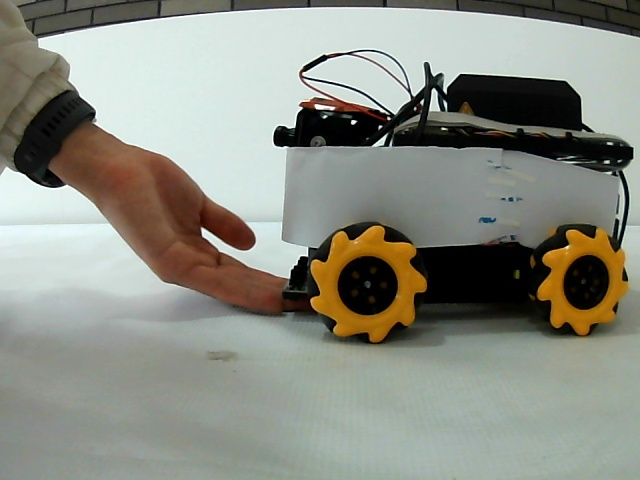car: (270, 66, 626, 343)
paper: (285, 146, 614, 225)
